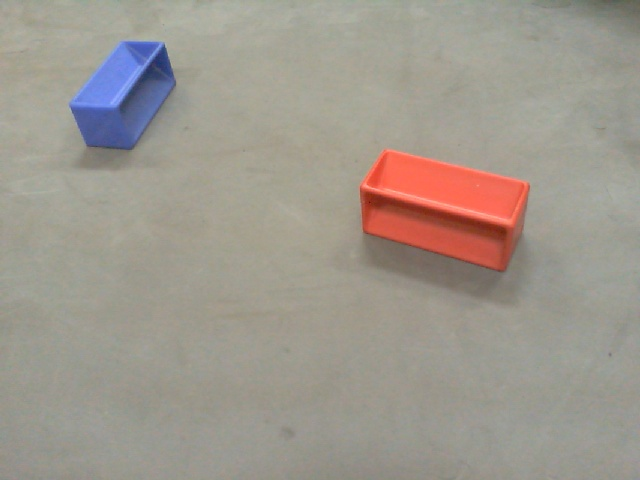BlueSample: (64, 39, 178, 154)
RedSample: (355, 143, 539, 279)
